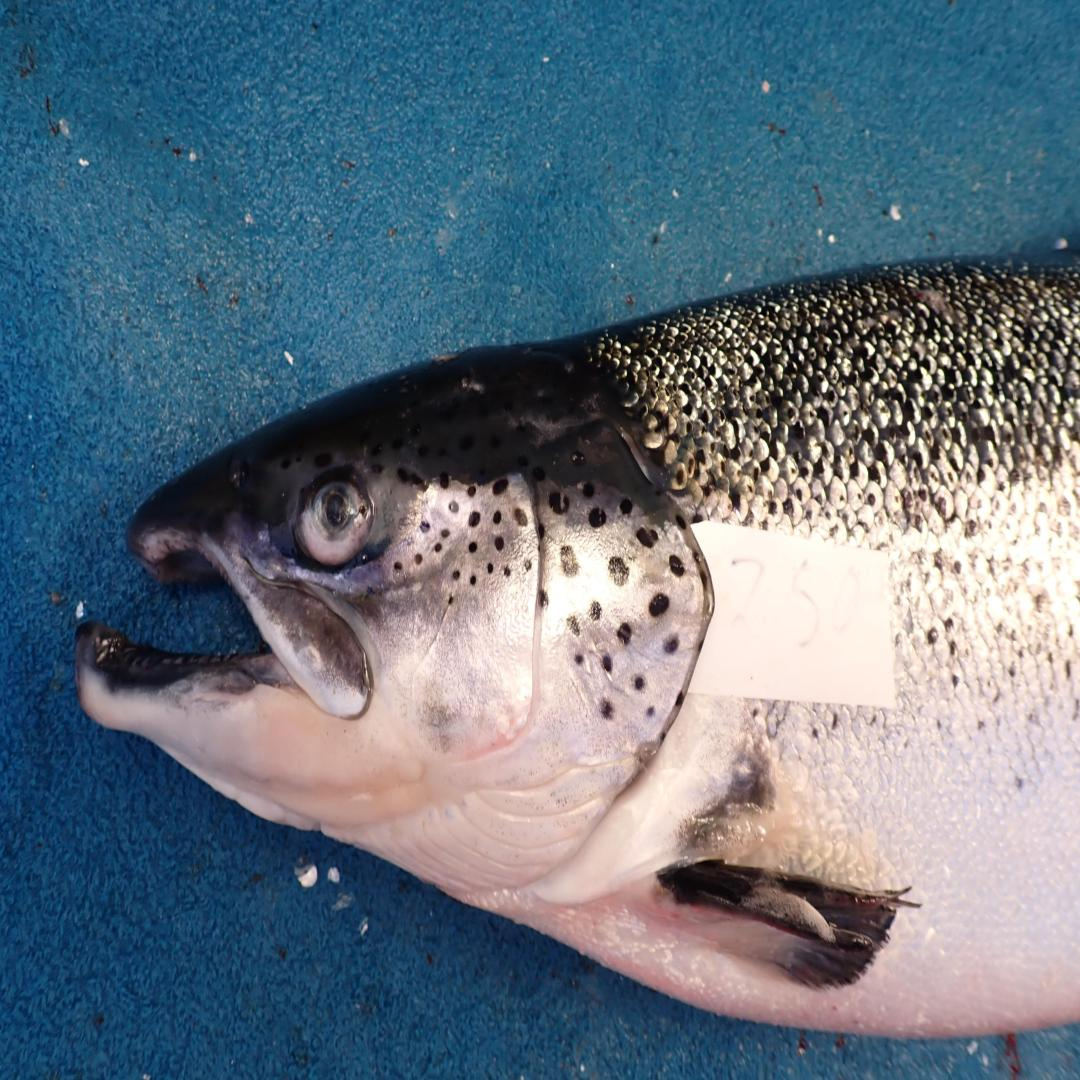spot: (559, 546, 578, 577), (610, 557, 629, 585), (548, 492, 570, 515), (637, 526, 658, 548), (650, 593, 669, 616), (669, 554, 686, 577), (616, 622, 633, 644), (599, 698, 616, 720), (589, 506, 605, 529), (491, 478, 508, 495), (664, 636, 679, 655), (567, 616, 580, 636), (589, 602, 601, 622), (515, 506, 527, 526), (620, 498, 633, 515), (601, 652, 612, 672), (633, 675, 645, 692), (675, 692, 686, 709), (468, 512, 481, 526), (582, 484, 595, 498), (699, 570, 708, 589), (538, 591, 548, 608), (494, 534, 504, 551), (468, 540, 479, 554), (466, 484, 477, 498), (502, 565, 513, 579), (420, 519, 430, 532), (677, 515, 686, 529), (449, 501, 458, 515), (575, 653, 584, 665), (646, 706, 655, 718), (524, 559, 532, 572), (494, 512, 502, 523), (414, 553, 422, 564), (394, 561, 402, 572), (538, 523, 544, 537), (487, 562, 494, 574), (694, 550, 700, 564), (452, 570, 460, 580), (470, 574, 477, 585), (434, 544, 442, 553), (441, 529, 449, 537), (448, 596, 453, 605)
